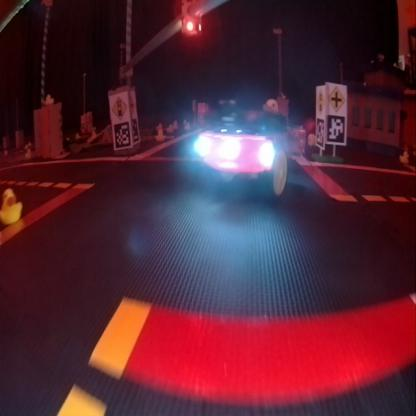Duckie: (0, 190, 21, 223), (399, 150, 408, 164), (44, 94, 53, 104)
Duckiebot: (198, 115, 288, 194)
Intersection sign: (326, 86, 345, 112)
QR code: (326, 114, 344, 142), (113, 123, 131, 146), (316, 122, 324, 148), (130, 119, 139, 142)
Signal sign: (112, 94, 127, 119), (316, 88, 326, 113)
Traffic light: (180, 0, 201, 35)
